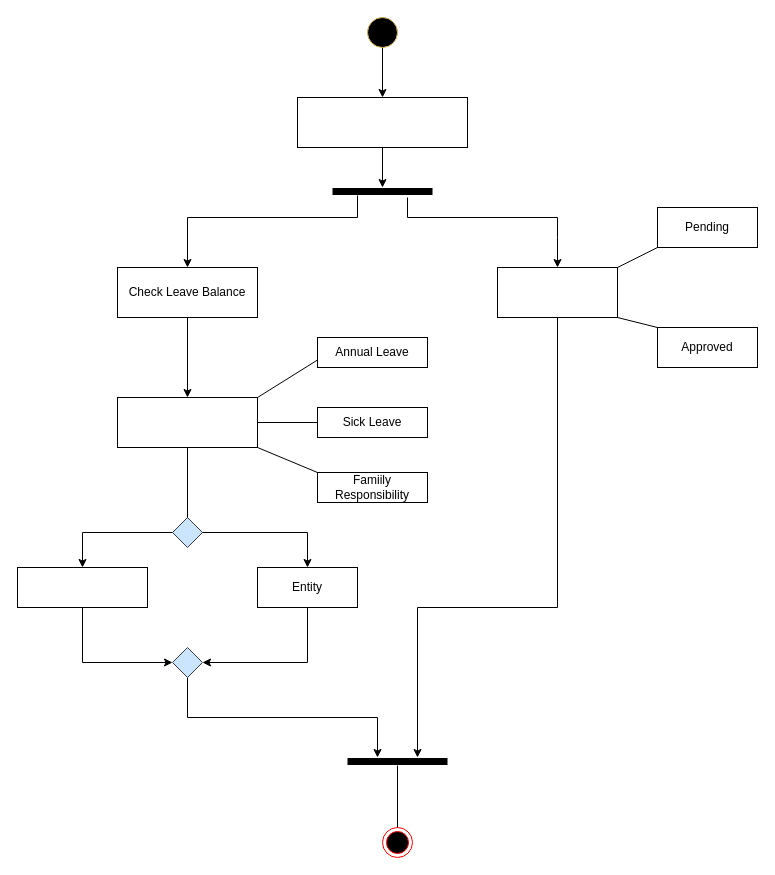
Image size: 775x875. Some labels were removed from this diagram. Here are the shapes that lost their labels. From the top down, the box of each, then its label:
(296, 96, 468, 148): Open leave management system
(496, 266, 618, 318): Check Leave Status
(116, 396, 258, 448): Request lor a leave
(16, 566, 148, 608): Provide supporting documents
